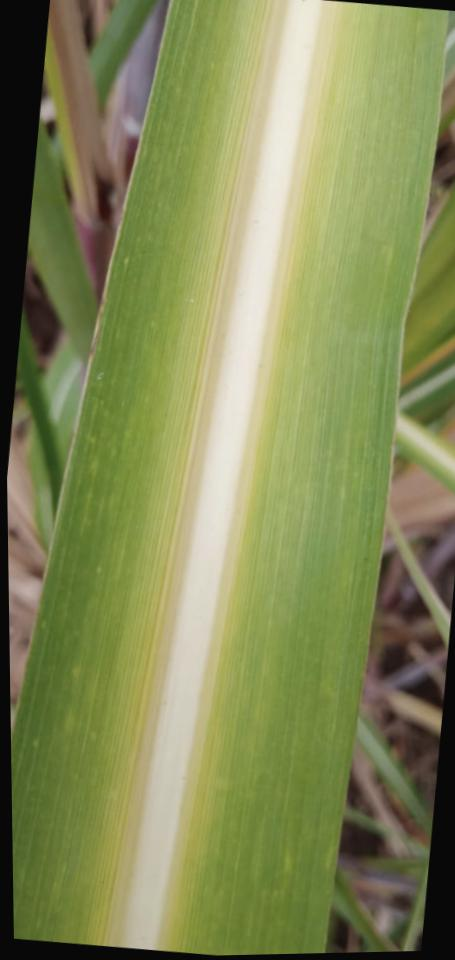Yellow: (54, 0, 377, 955)
